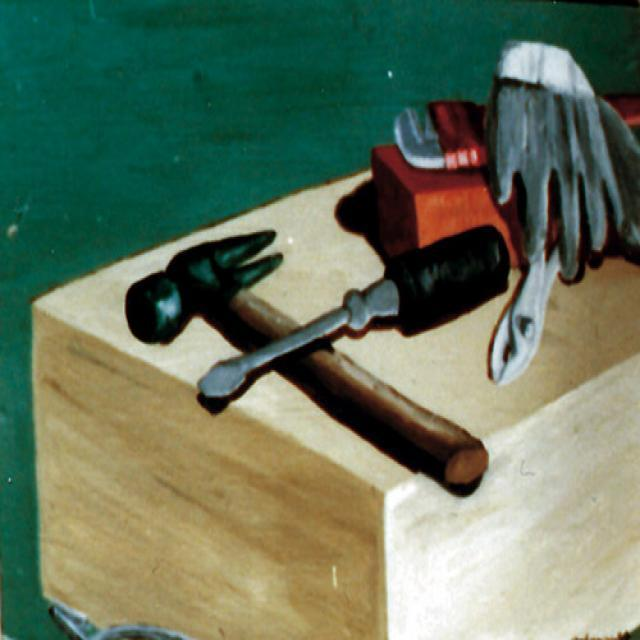hammer: (112, 225, 500, 506)
pliers: (482, 180, 627, 396)
screwdriver: (193, 210, 525, 423)
